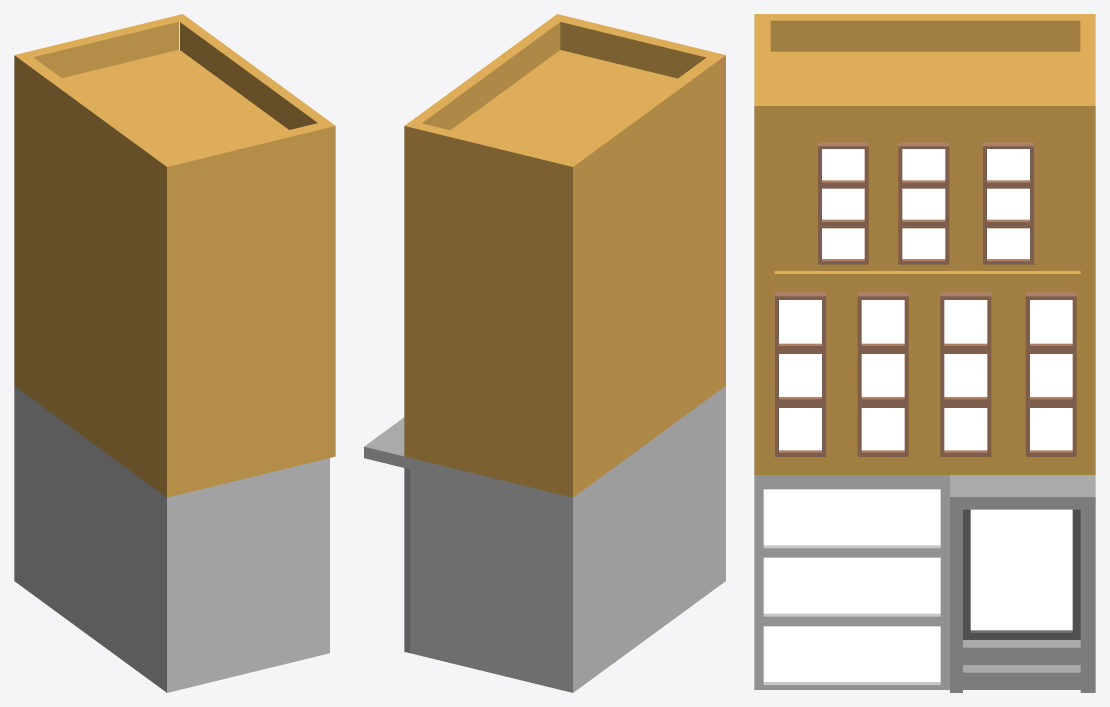
Rendered from House 3.3.fbx.
The picture shows the model from 3 angles, left to right: view 1: azimuth 30°, elevation 25°; view 2: azimuth 150°, elevation 25°; view 3: azimuth 270°, elevation 25°; orthographic projection. The views are drawn at different scales.
Parts seen in each view (by area): view 1: House 3.004; view 2: House 3.004; view 3: House 3.004.
Boxes of the visible parts, x1,y1,x2,y2 form: House 3.004: [14, 14, 335, 692]; House 3.004: [364, 14, 725, 692]; House 3.004: [754, 14, 1095, 692].
Size of the model in its own units: 725 by 1743 by 919.
